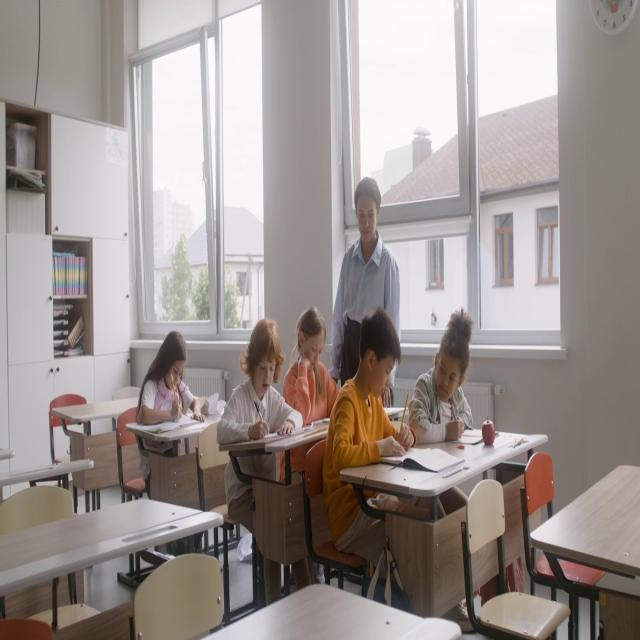reading: (282, 308, 330, 440)
turning: (327, 304, 431, 616)
writing: (218, 320, 306, 604), (136, 331, 210, 554), (408, 310, 476, 444)
